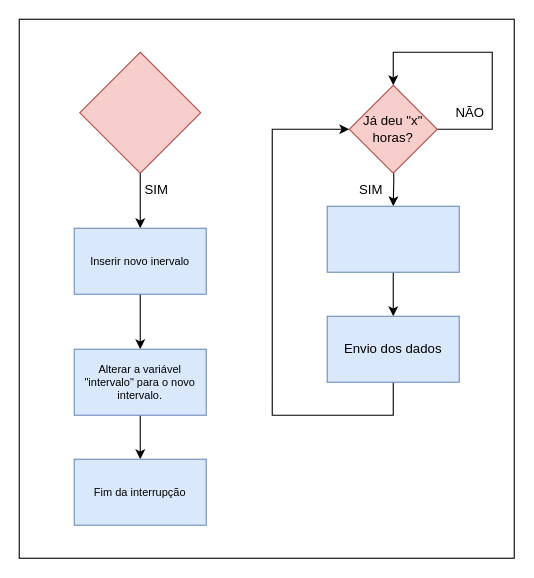
This 534x578 diagram has some shape labels left out. The shapes that lost their labels are listed below. From the top down, each one's centre as x and y in pixels, then its label:
At pixel 140 112: "Interrupção de mudança de intervalo ativada?".
At pixel 392 238: "Aquisição dos dados da localização".
